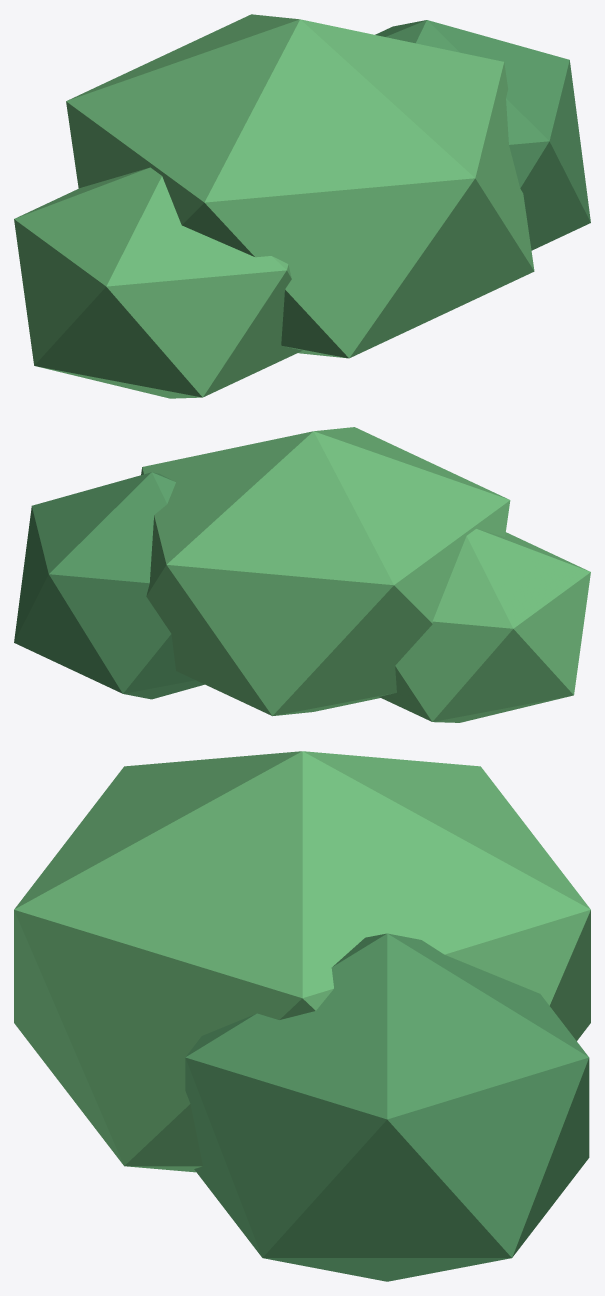
File: bush.glb
3 renders of one model, top to bottom at view 1: azimuth 30°, elevation 25°; view 2: azimuth 150°, elevation 25°; view 3: azimuth 270°, elevation 25°, orthographic. The views are drawn at different scales.
Visible parts, largest first — view 1: Bush, BushC, BushB; view 2: Bush, BushB, BushC; view 3: Bush, BushB.
Boxes of the visible parts, box(x1,y1,x2,y2) form: Bush: box(66, 14, 534, 358); BushC: box(14, 167, 302, 398); BushB: box(375, 20, 590, 250); Bush: box(141, 427, 510, 716); BushB: box(14, 472, 204, 699); BushC: box(379, 529, 590, 722); Bush: box(14, 751, 590, 1172); BushB: box(185, 933, 589, 1281).
Bounding box in the file's own units: 1.55 × 0.84 × 1.02.
